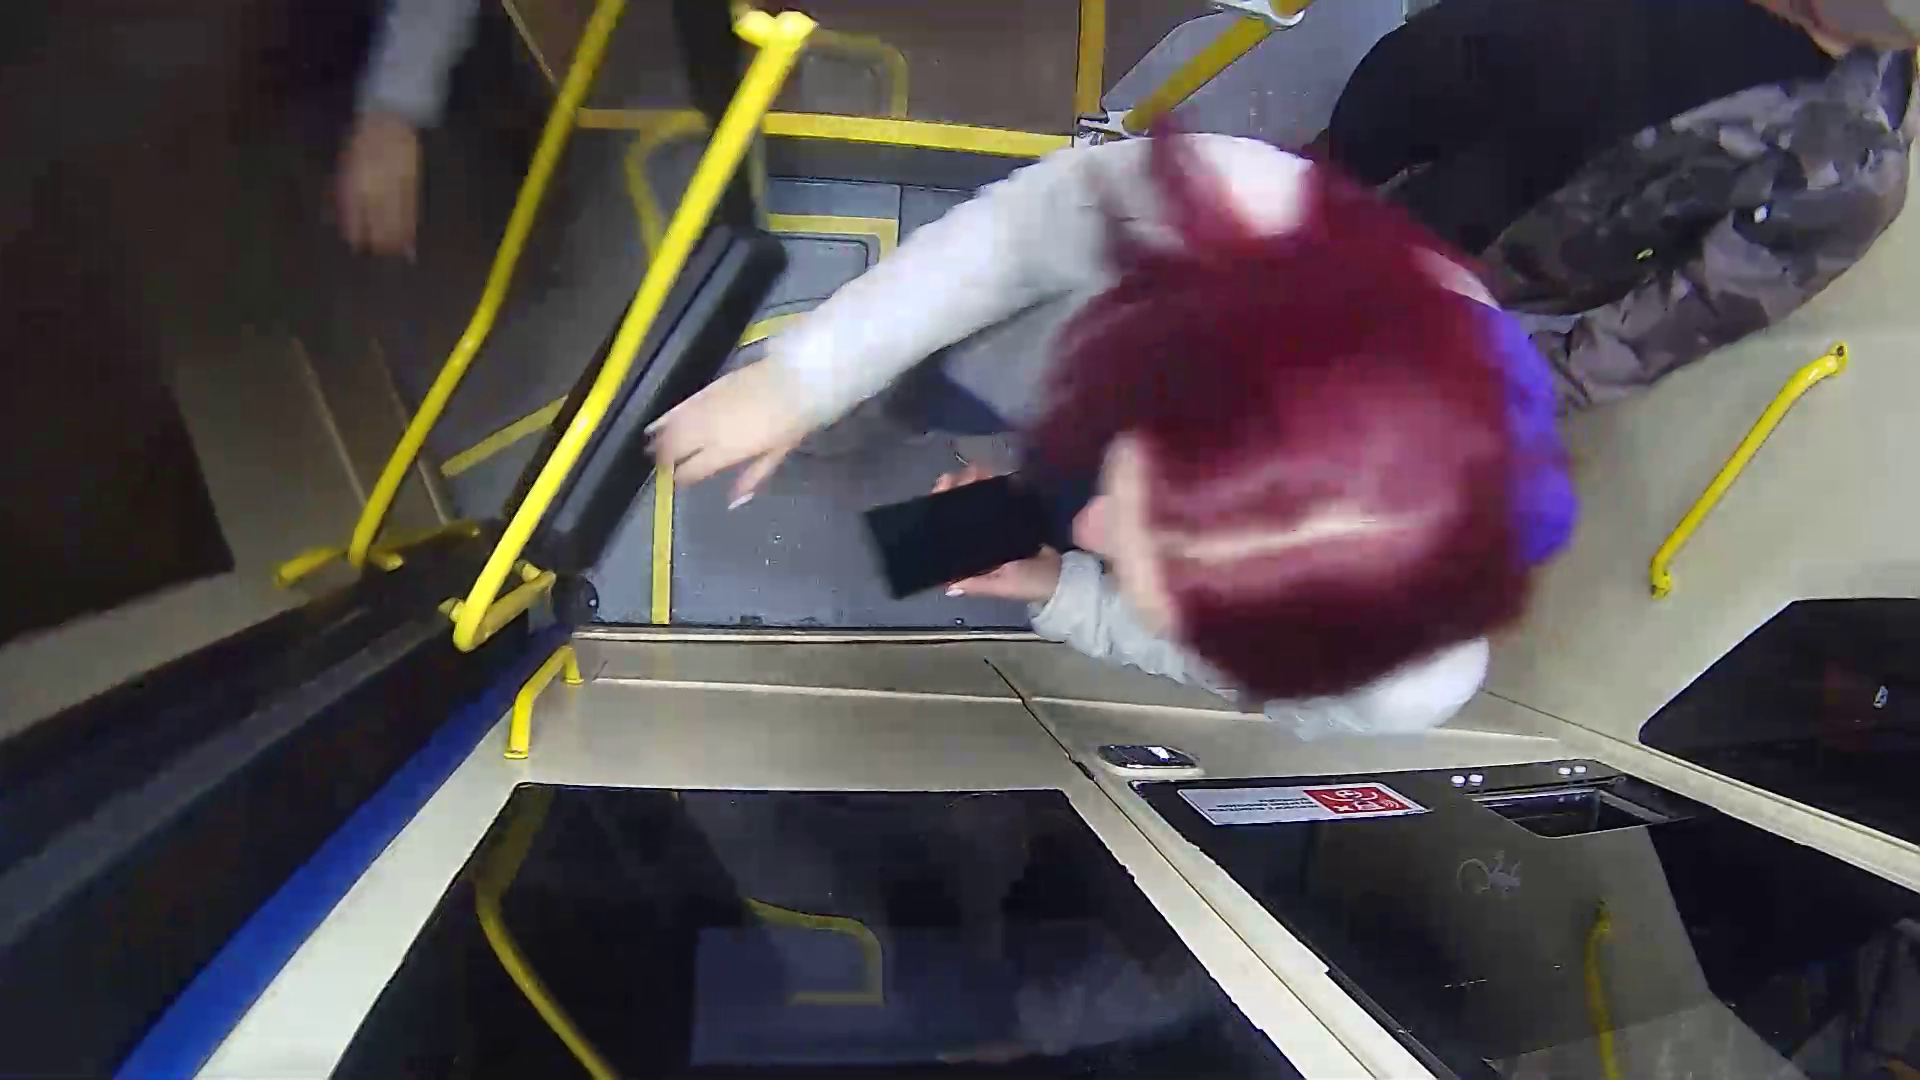person: (730, 118, 1692, 778)
